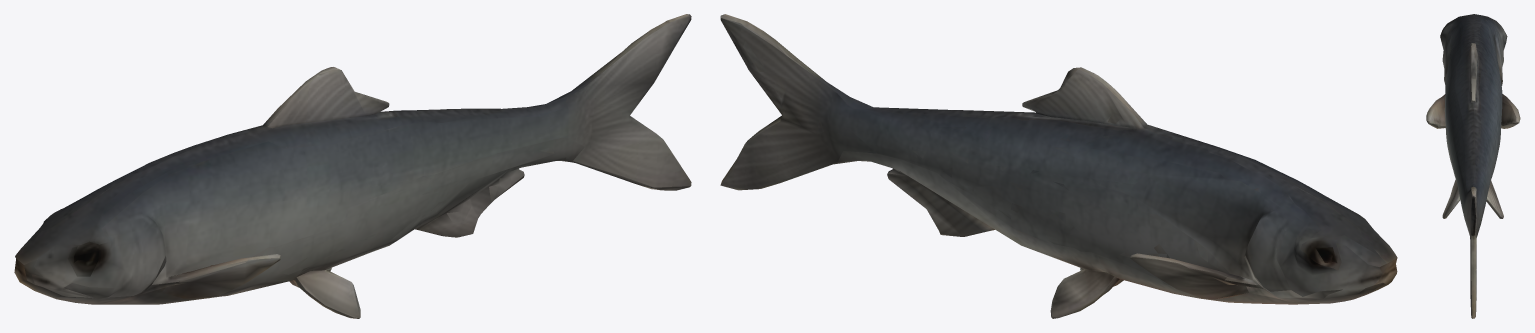
File: fish_sedan_l0.glb
3 views of the same model, side by side, from view 1: azimuth 30°, elevation 25°; view 2: azimuth 150°, elevation 25°; view 3: azimuth 270°, elevation 25° (orthographic). The views are drawn at different scales.
Parts seen in each view (by area): view 1: geometry_0; view 2: geometry_0; view 3: geometry_0.
Boxes of the visible parts, left/top/right/bottom form: geometry_0: left=14, top=14, right=691, bottom=318; geometry_0: left=720, top=14, right=1397, bottom=318; geometry_0: left=1426, top=14, right=1520, bottom=318.
Bounding box in the file's own units: 1.6 × 0.5397 × 0.2697.
1 material, 1 textured.
